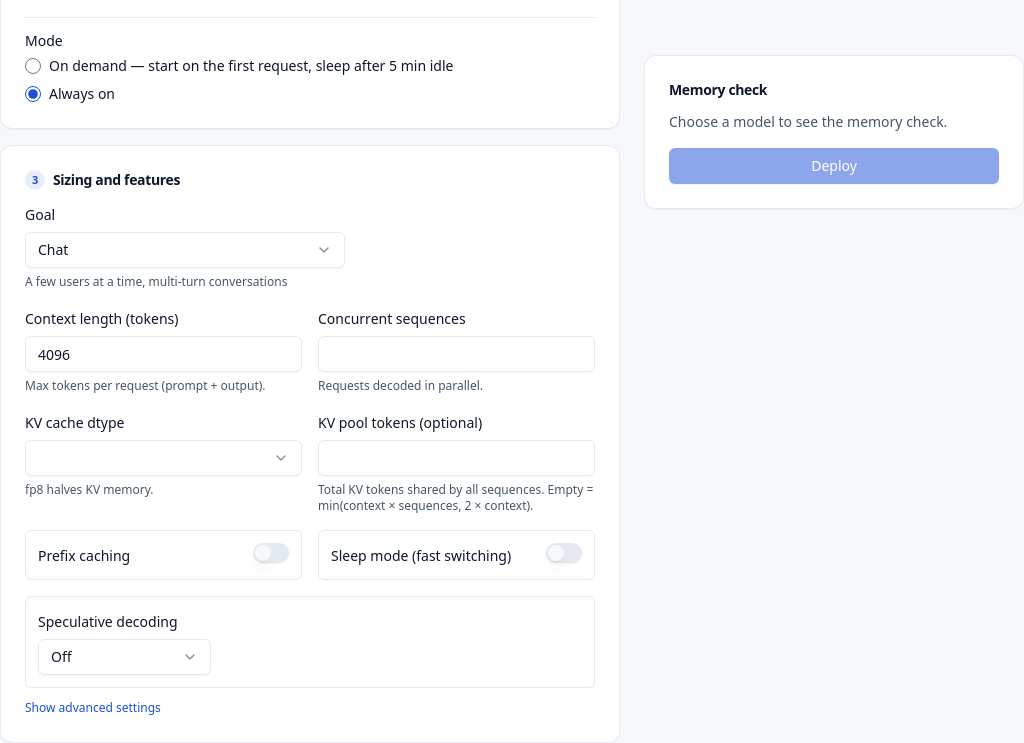
Test case: DeployWizard preview priority › shows the code scan with trust_remote_code on, and a clean scan keeps the generic warning
This screenshot has width=1024, height=743.
(page scrolled)
Expected: the number field labelled "Context length (tokens)" is shown, [25,336,302,372]
Click the button "Show advanced settings" at (93, 708), box [25,700,161,716]
(page scrolled)
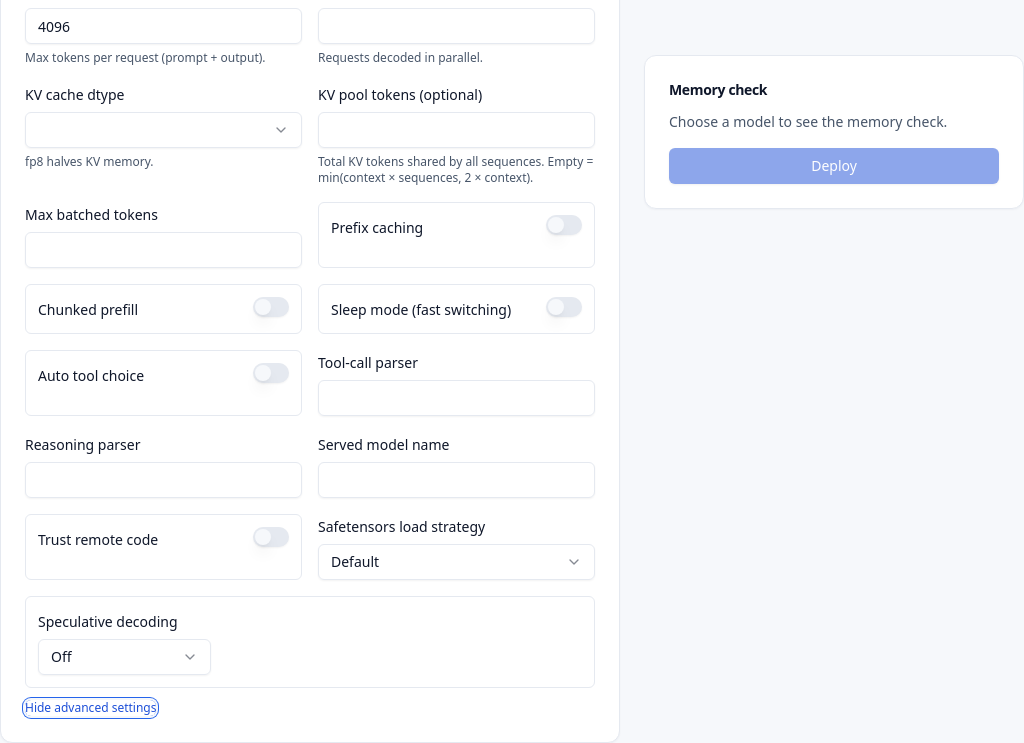
Click the switch named "Trust remote code" at (271, 537), box [253,527,289,547]
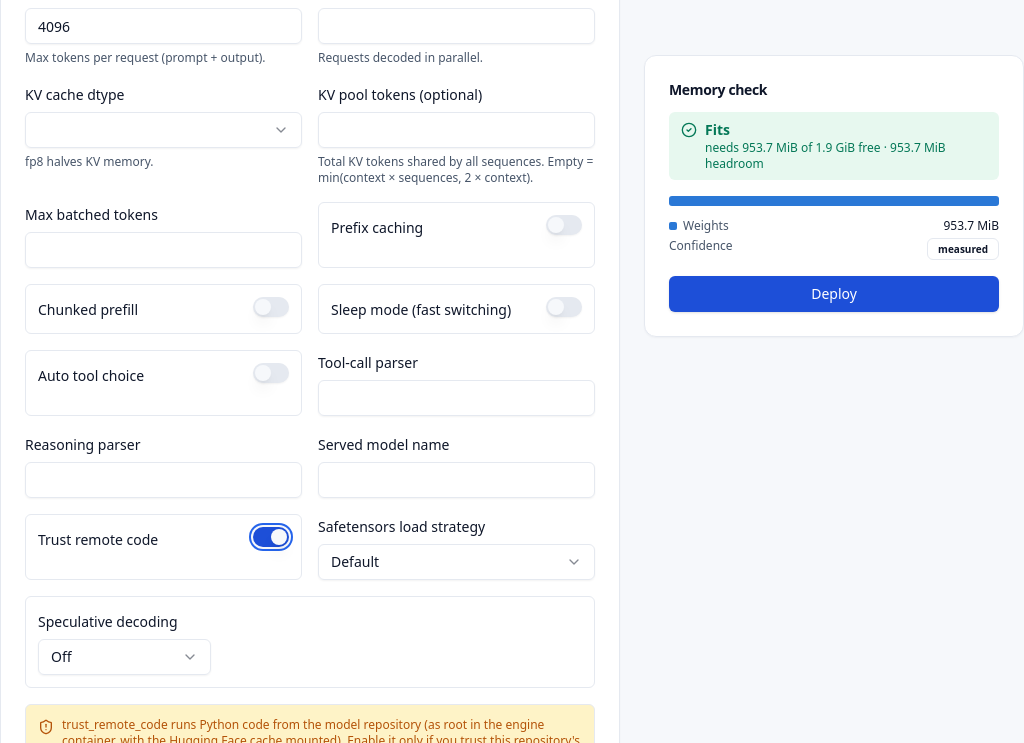
Expected: the text "trust_remote_code runs Python code from the model repository" is shown, [62,716,421,733]
